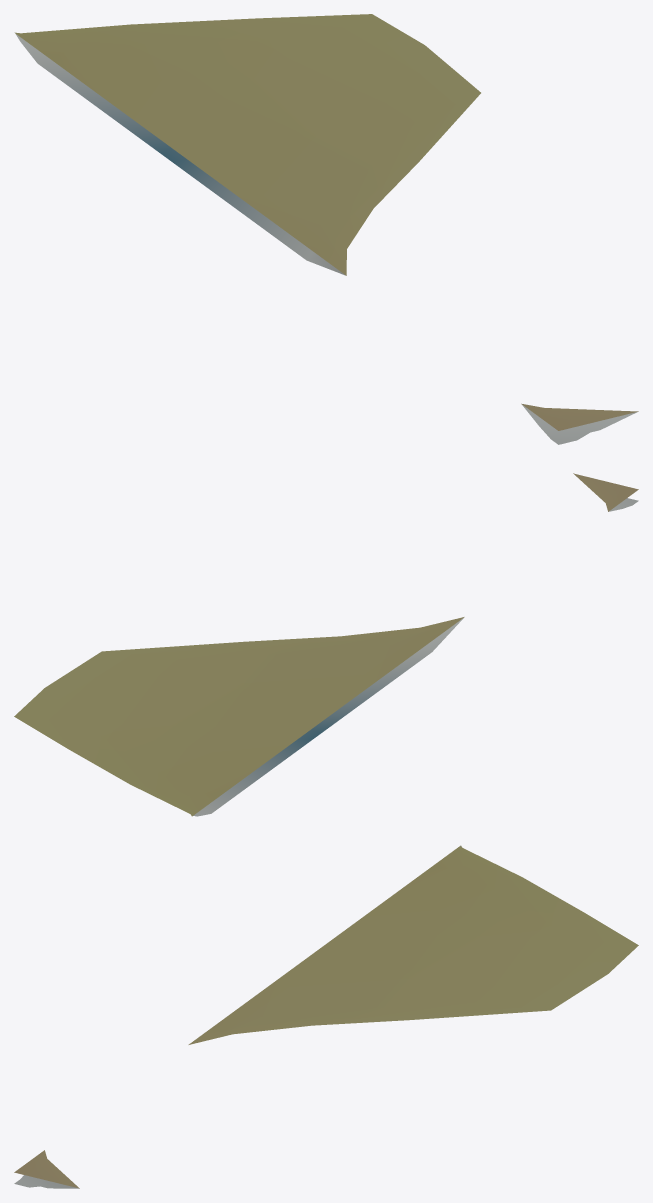
3 renders of one model, top to bottom at view 1: azimuth 30°, elevation 25°; view 2: azimuth 150°, elevation 25°; view 3: azimuth 330°, elevation 25°, orthographic. The views are drawn at different scales.
Visible parts, largest first — view 1: G:\FFXIV-MapTools\exports\r2f1\bg\ex1\01_roc_r2\fld\r2f1\bgp (×3); view 2: G:\FFXIV-MapTools\exports\r2f1\bg\ex1\01_roc_r2\fld\r2f1\bgp (×3); view 3: G:\FFXIV-MapTools\exports\r2f1\bg\ex1\01_roc_r2\fld\r2f1\bgp.
Part boxes in pixels (<box>): G:\FFXIV-MapTools\exports\r2f1\bg\ex1\01_roc_r2\fld\r2f1\bgp (×3): <box>15,14,638,444</box>; G:\FFXIV-MapTools\exports\r2f1\bg\ex1\01_roc_r2\fld\r2f1\bgp (×3): <box>14,473,638,816</box>; G:\FFXIV-MapTools\exports\r2f1\bg\ex1\01_roc_r2\fld\r2f1\bgp: <box>14,846,638,1188</box>.
Size of what is drawn, in the model's own units: 8.38 by 0.375 by 26.75.
